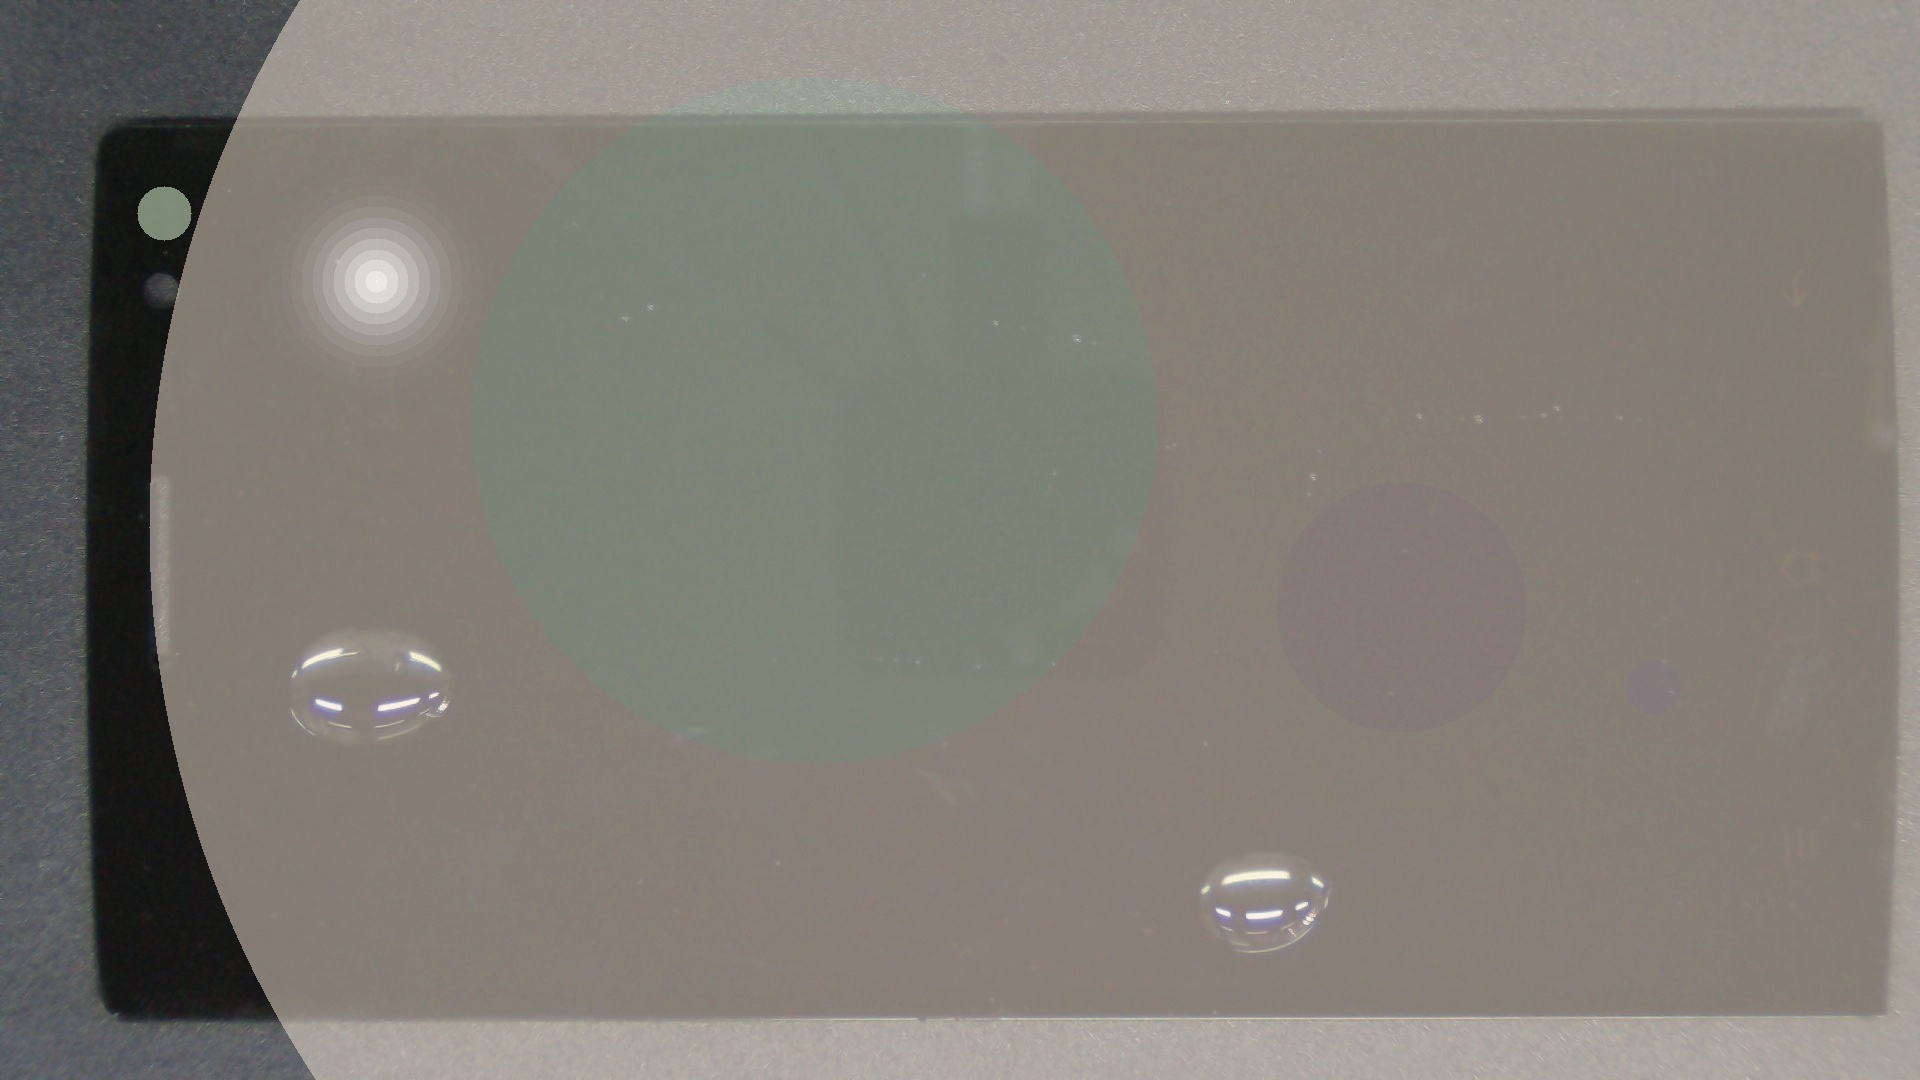oil: (625, 425, 1874, 1080), (175, 314, 525, 943)
